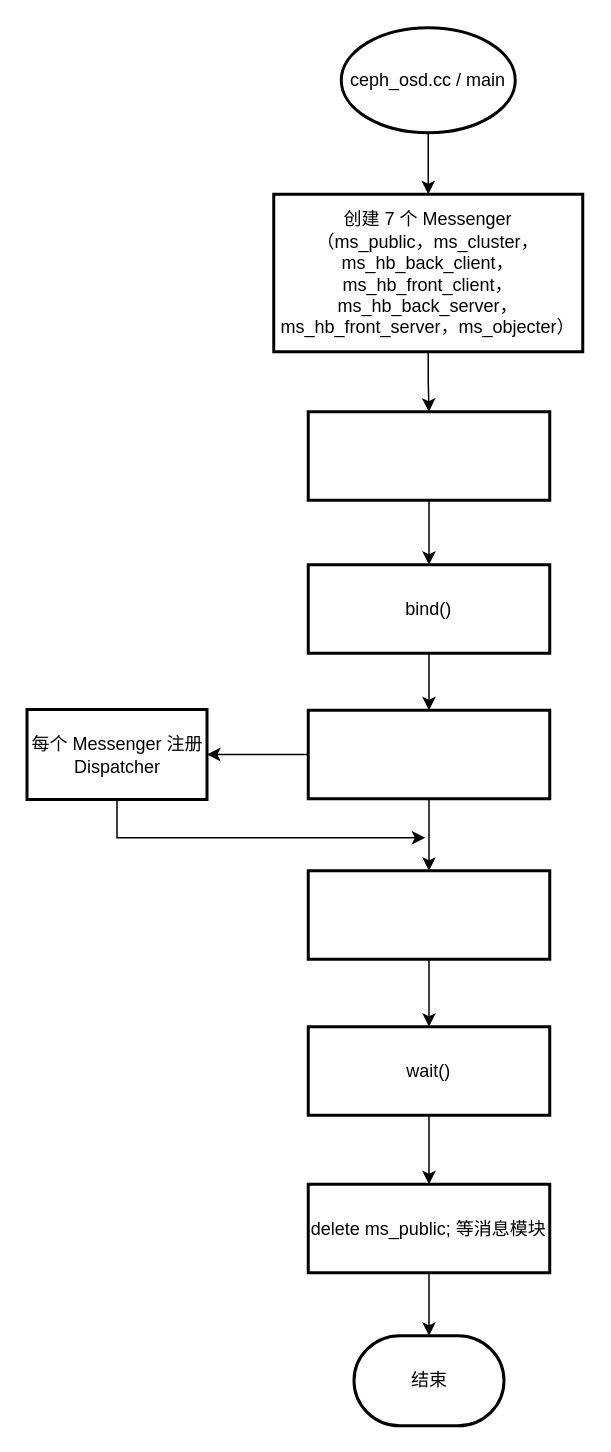
Some shapes in this 611 by 1452 pixel diagram are drawn without their labels. The shapes that lost their labels are listed below. From the top down, each one's box as (x1, y1, x2, y2) in pixels, then its label:
(306, 410, 550, 501): set_cluster_protocol() set_policy() set_socket_priority() 等
(306, 708, 550, 800): int OSD::init()
(306, 868, 550, 960): start()
